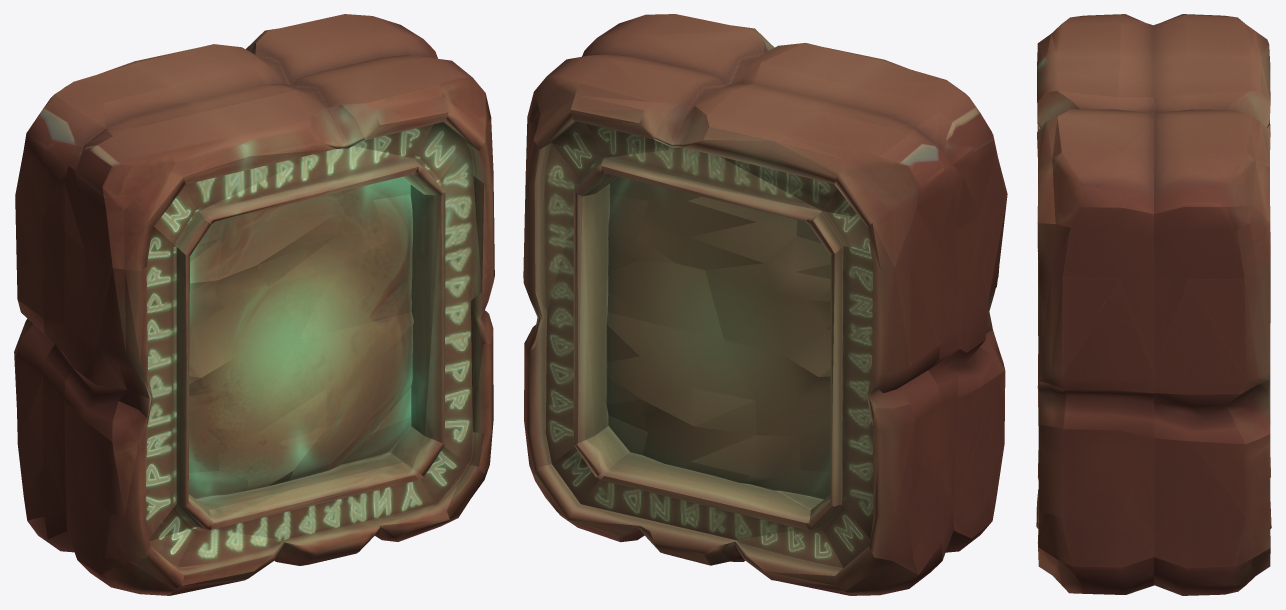
The model's file is StoneTile_Correct.glb.
3 renders of one model, left to right at view 1: azimuth 30°, elevation 25°; view 2: azimuth 150°, elevation 25°; view 3: azimuth 270°, elevation 25°, orthographic. The views are drawn at different scales.
Parts seen in each view (by area): view 1: mesh_node; view 2: mesh_node; view 3: mesh_node.
Part boxes in pixels (bbox=[...]): mesh_node: bbox=[14, 14, 494, 595]; mesh_node: bbox=[523, 14, 1007, 595]; mesh_node: bbox=[1036, 14, 1271, 595].
Size of the model in its own units: 0.9199 by 1 by 0.4902.
1 material, 1 textured.
